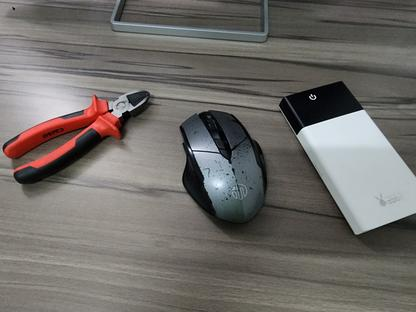mouse: (178, 108, 267, 225)
